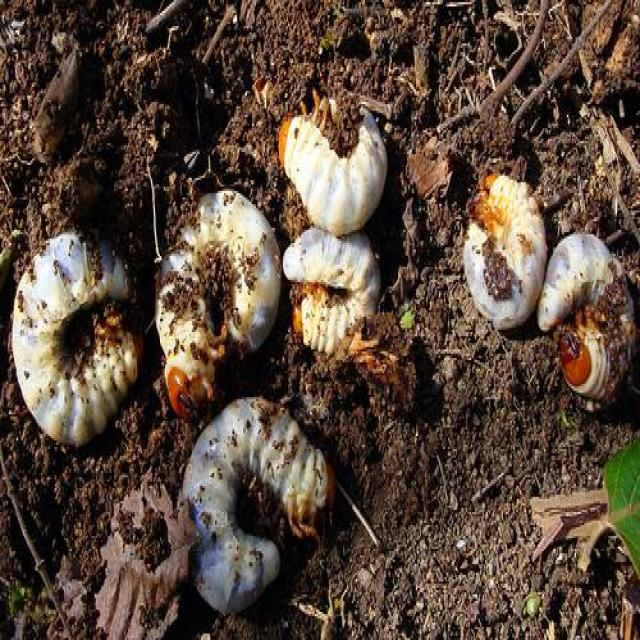Grub-Adult-: (146, 174, 290, 416), (175, 402, 341, 595), (9, 222, 137, 433), (269, 222, 405, 381), (536, 226, 638, 415), (266, 98, 404, 234), (455, 166, 544, 328)
